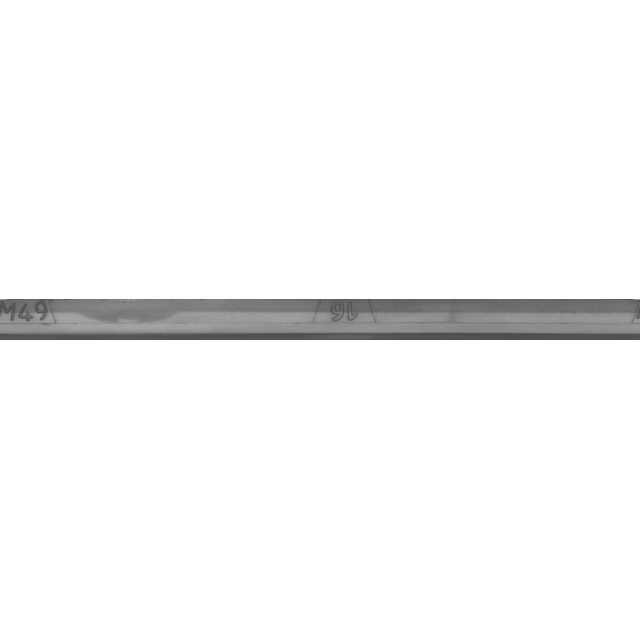mohao: (0, 270, 119, 370)
xuehao: (245, 270, 445, 370)
